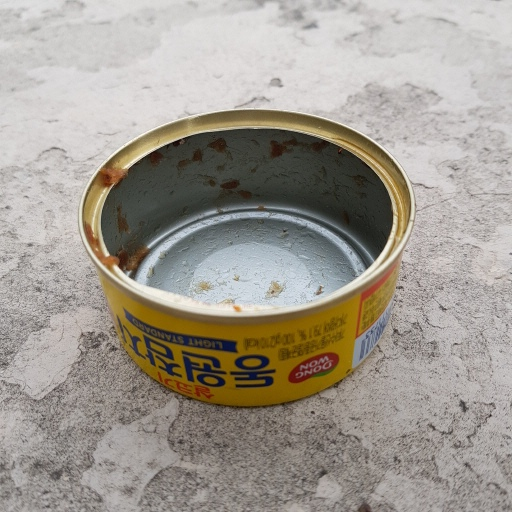Metal_1: (77, 110, 421, 409)
